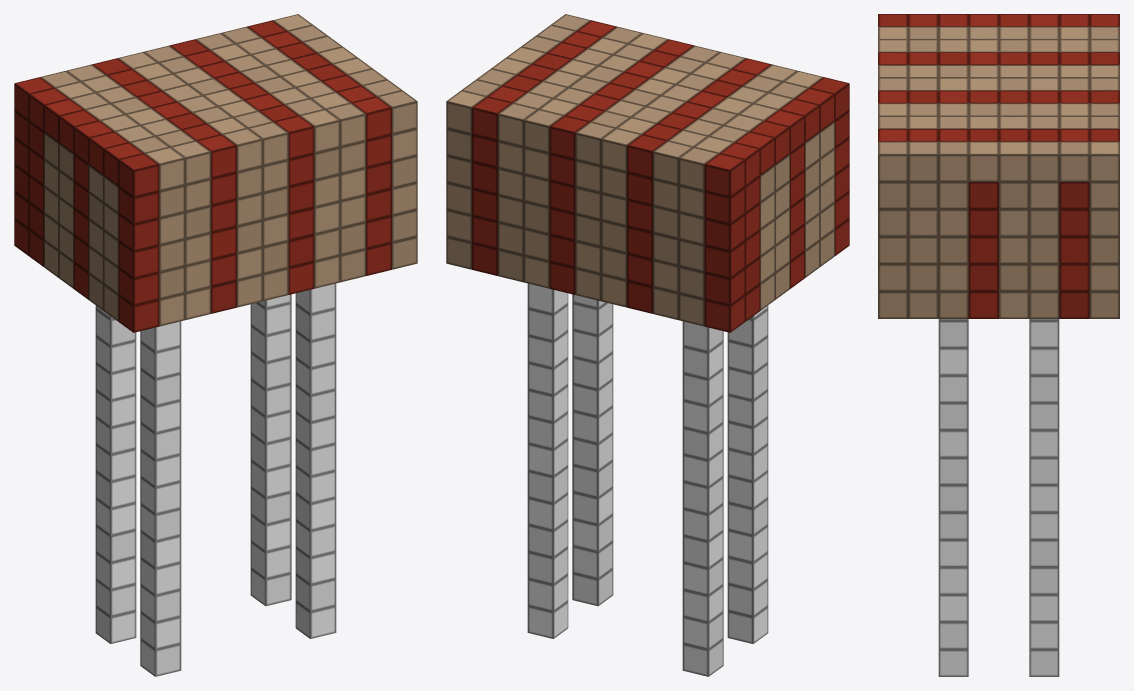
Rendered from booth_table.glb.
3 renders of one model, left to right at view 1: azimuth 30°, elevation 25°; view 2: azimuth 150°, elevation 25°; view 3: azimuth 270°, elevation 25°, orthographic.
Visible parts, largest first — view 1: booth_table; view 2: booth_table; view 3: booth_table.
Part boxes in pixels (x1,y1,x2,y2): booth_table: (14,14,417,676); booth_table: (446,14,849,676); booth_table: (878,14,1119,676).
Size of the model in its own units: 0.55 by 1 by 0.4.
3 materials, 3 textured.
